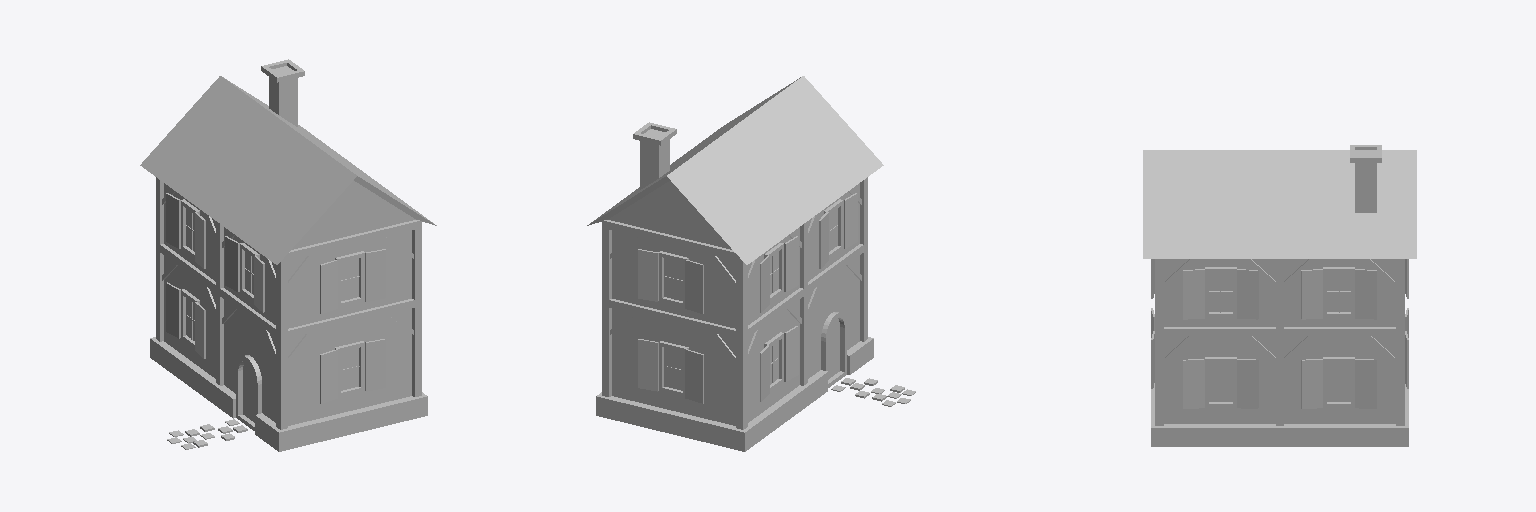
File: building.obj
3 renders of one model, left to right at view 1: azimuth 30°, elevation 25°; view 2: azimuth 150°, elevation 25°; view 3: azimuth 270°, elevation 25°, orthographic.
Size of the model in its own units: 12.18 by 14.25 by 12.77.